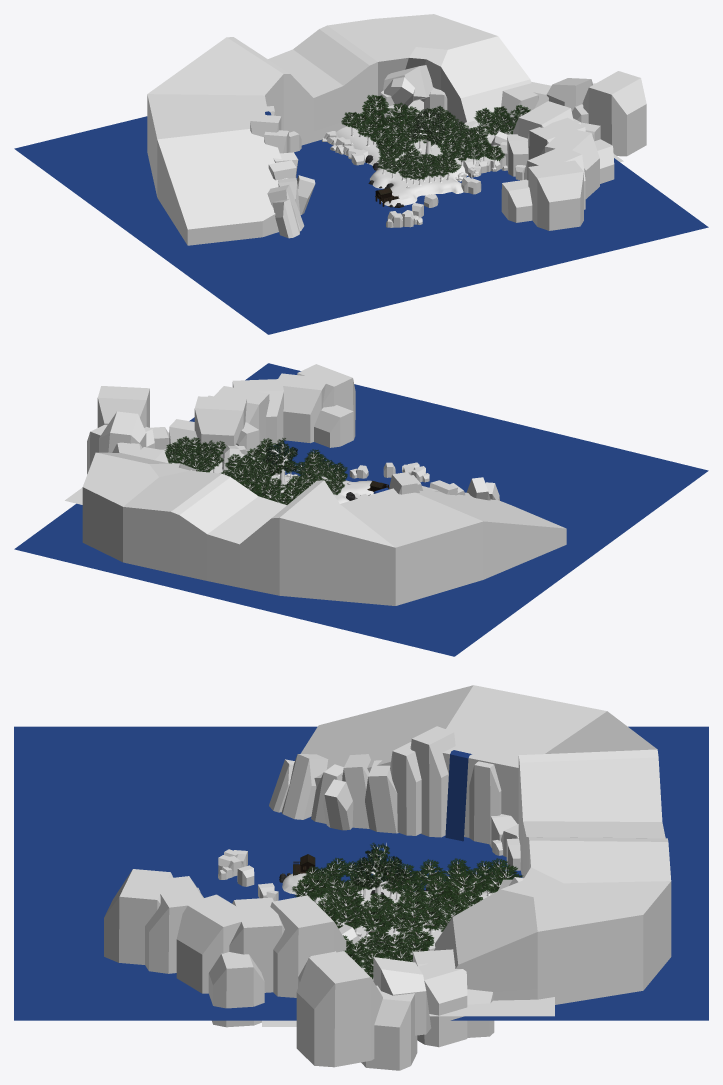
File: map_sc2a5.glb
3 renders of one model, top to bottom at view 1: azimuth 30°, elevation 25°; view 2: azimuth 150°, elevation 25°; view 3: azimuth 270°, elevation 25°, orthographic. The views are drawn at different scales.
Parts seen in each view (by area): view 1: Cube, Plane.001, Plane, Circle; view 2: Cube, Plane.001, Plane, Circle; view 3: Cube, Plane.001, Plane, Circle, Tree.
Part boxes in pixels (left/top/right/bottom): Cube: left=147, top=14, right=646, bottom=245; Plane.001: left=14, top=111, right=708, bottom=334; Plane: left=336, top=99, right=623, bottom=206; Circle: left=410, top=108, right=445, bottom=156; Cube: left=82, top=364, right=566, bottom=605; Plane.001: left=14, top=363, right=708, bottom=656; Plane: left=65, top=432, right=373, bottom=504; Circle: left=263, top=438, right=297, bottom=485; Cube: left=104, top=685, right=671, bottom=1070; Plane.001: left=14, top=726, right=708, bottom=1020; Plane: left=262, top=873, right=554, bottom=1026; Circle: left=352, top=842, right=407, bottom=906; Tree: left=443, top=870, right=482, bottom=898.
Size of what is drawn, in the model's own units: 333 by 75 by 299.
10 materials, 6 textured.
